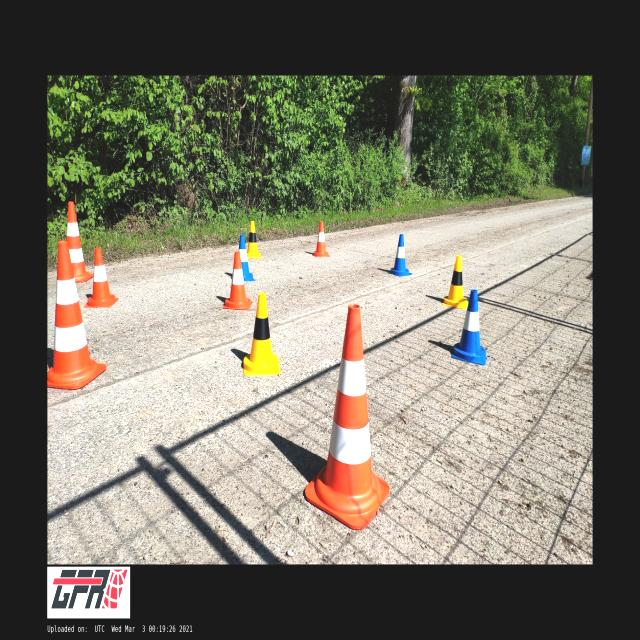blue_cone: (452, 290, 486, 366), (388, 234, 412, 276), (240, 234, 256, 280)
large_orange_cone: (306, 304, 390, 530), (48, 242, 106, 390), (67, 202, 93, 282)
orange_cone: (84, 248, 118, 308), (222, 252, 252, 310), (313, 222, 330, 256)
yellow_cone: (242, 293, 280, 375), (442, 256, 468, 310), (246, 221, 262, 258)
